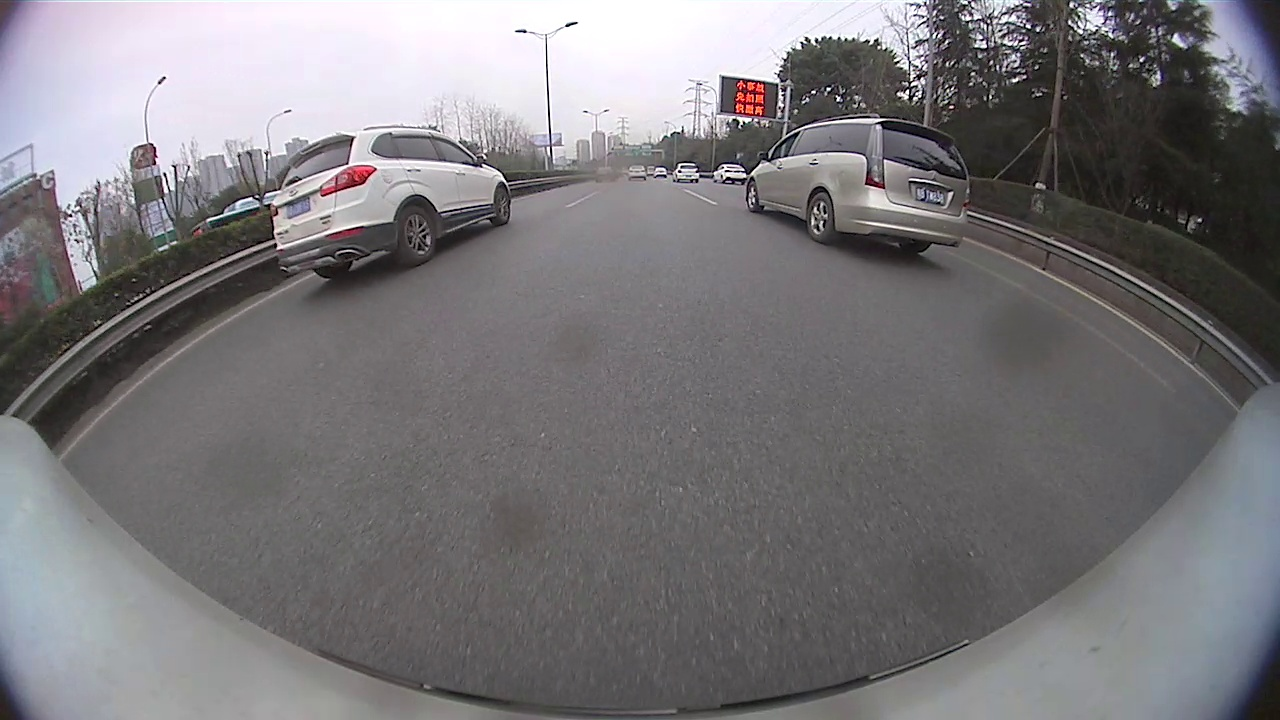car: (268, 123, 512, 283), (743, 112, 969, 254), (713, 162, 747, 185), (673, 162, 699, 182)
front: (495, 187, 513, 224), (745, 183, 761, 213)
rear: (397, 205, 438, 263), (805, 193, 837, 243)
